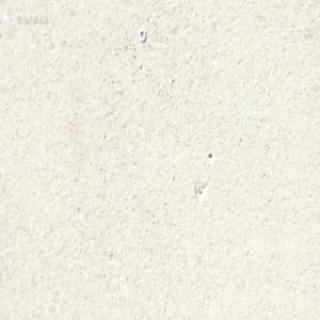Washertrack_idkeyframe: (138, 26, 146, 40)
